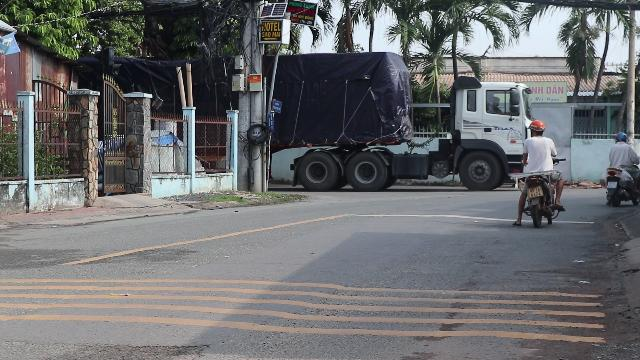helmet: (527, 120, 545, 136)
licenseplate: (526, 187, 544, 197)
motorcyclist: (512, 119, 564, 228)
